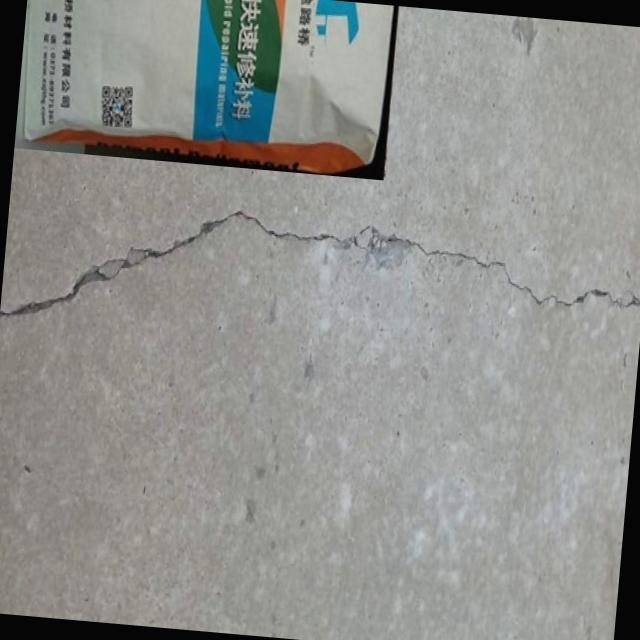crack: (0, 190, 640, 375)
